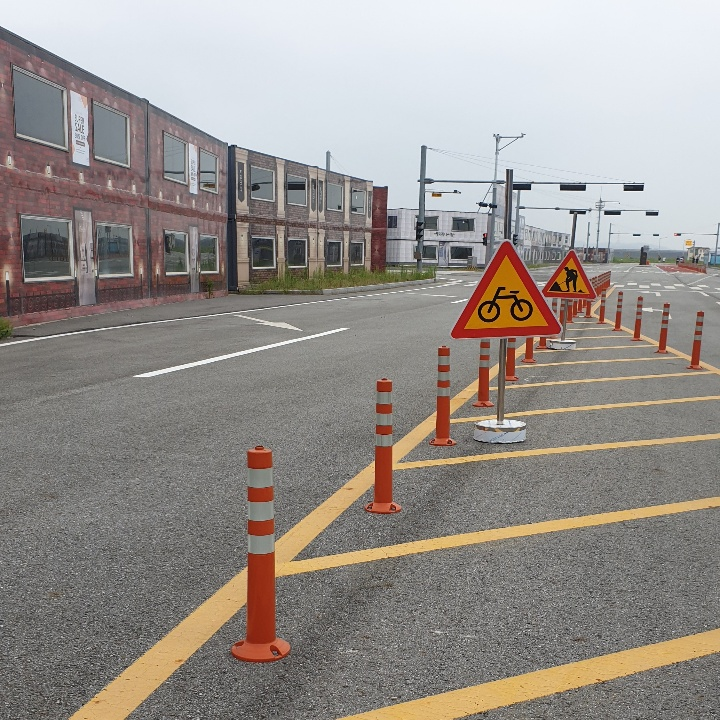bicycle: (448, 241, 562, 339)
const: (549, 257, 587, 292)
